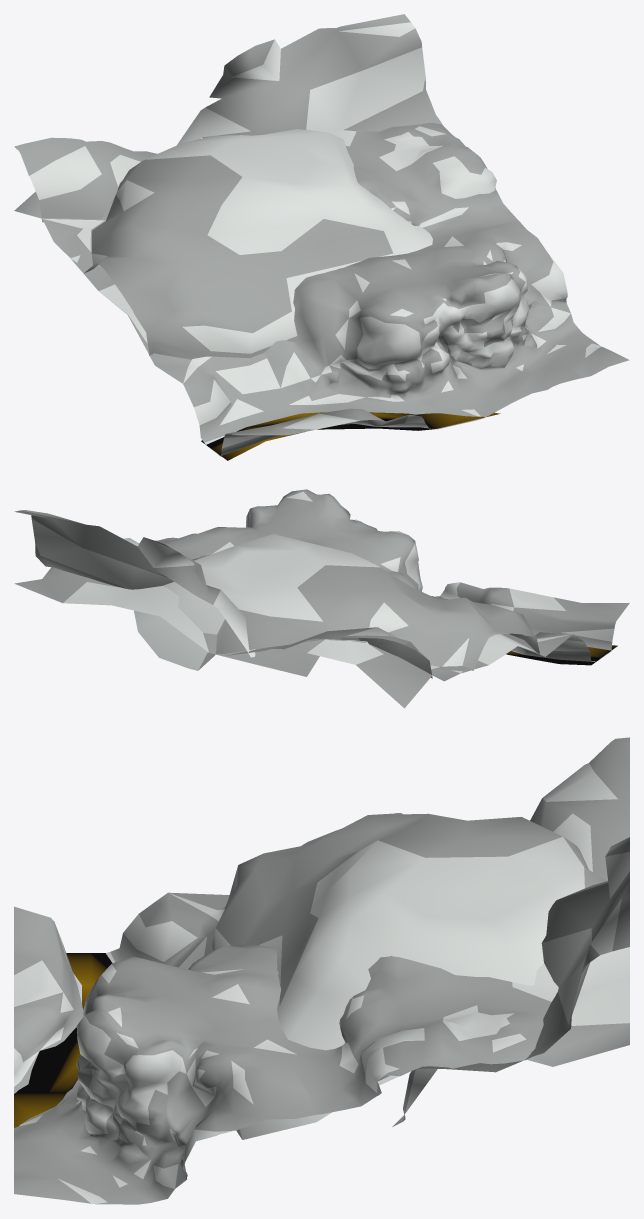
The picture shows the model from 3 angles, top to bottom: view 1: azimuth 30°, elevation 25°; view 2: azimuth 150°, elevation 25°; view 3: azimuth 270°, elevation 25°; orthographic projection. The views are drawn at different scales.
Parts seen in each view (by area): view 1: G:\FFXIV-MapTools\exports\f1f3\bg\ffxiv\fst_f1\fld\f1f3\bgpl (×12); view 2: G:\FFXIV-MapTools\exports\f1f3\bg\ffxiv\fst_f1\fld\f1f3\bgpl (×11); view 3: G:\FFXIV-MapTools\exports\f1f3\bg\ffxiv\fst_f1\fld\f1f3\bgpl (×10).
Boxes of the visible parts, x1=… form: G:\FFXIV-MapTools\exports\f1f3\bg\ffxiv\fst_f1\fld\f1f3\bgpl (×12): x1=14, y1=14, x2=629, y2=460; G:\FFXIV-MapTools\exports\f1f3\bg\ffxiv\fst_f1\fld\f1f3\bgpl (×11): x1=14, y1=489, x2=629, y2=708; G:\FFXIV-MapTools\exports\f1f3\bg\ffxiv\fst_f1\fld\f1f3\bgpl (×10): x1=14, y1=737, x2=629, y2=1204.
Bounding box in the file's own units: 128 × 65.86 × 128.
